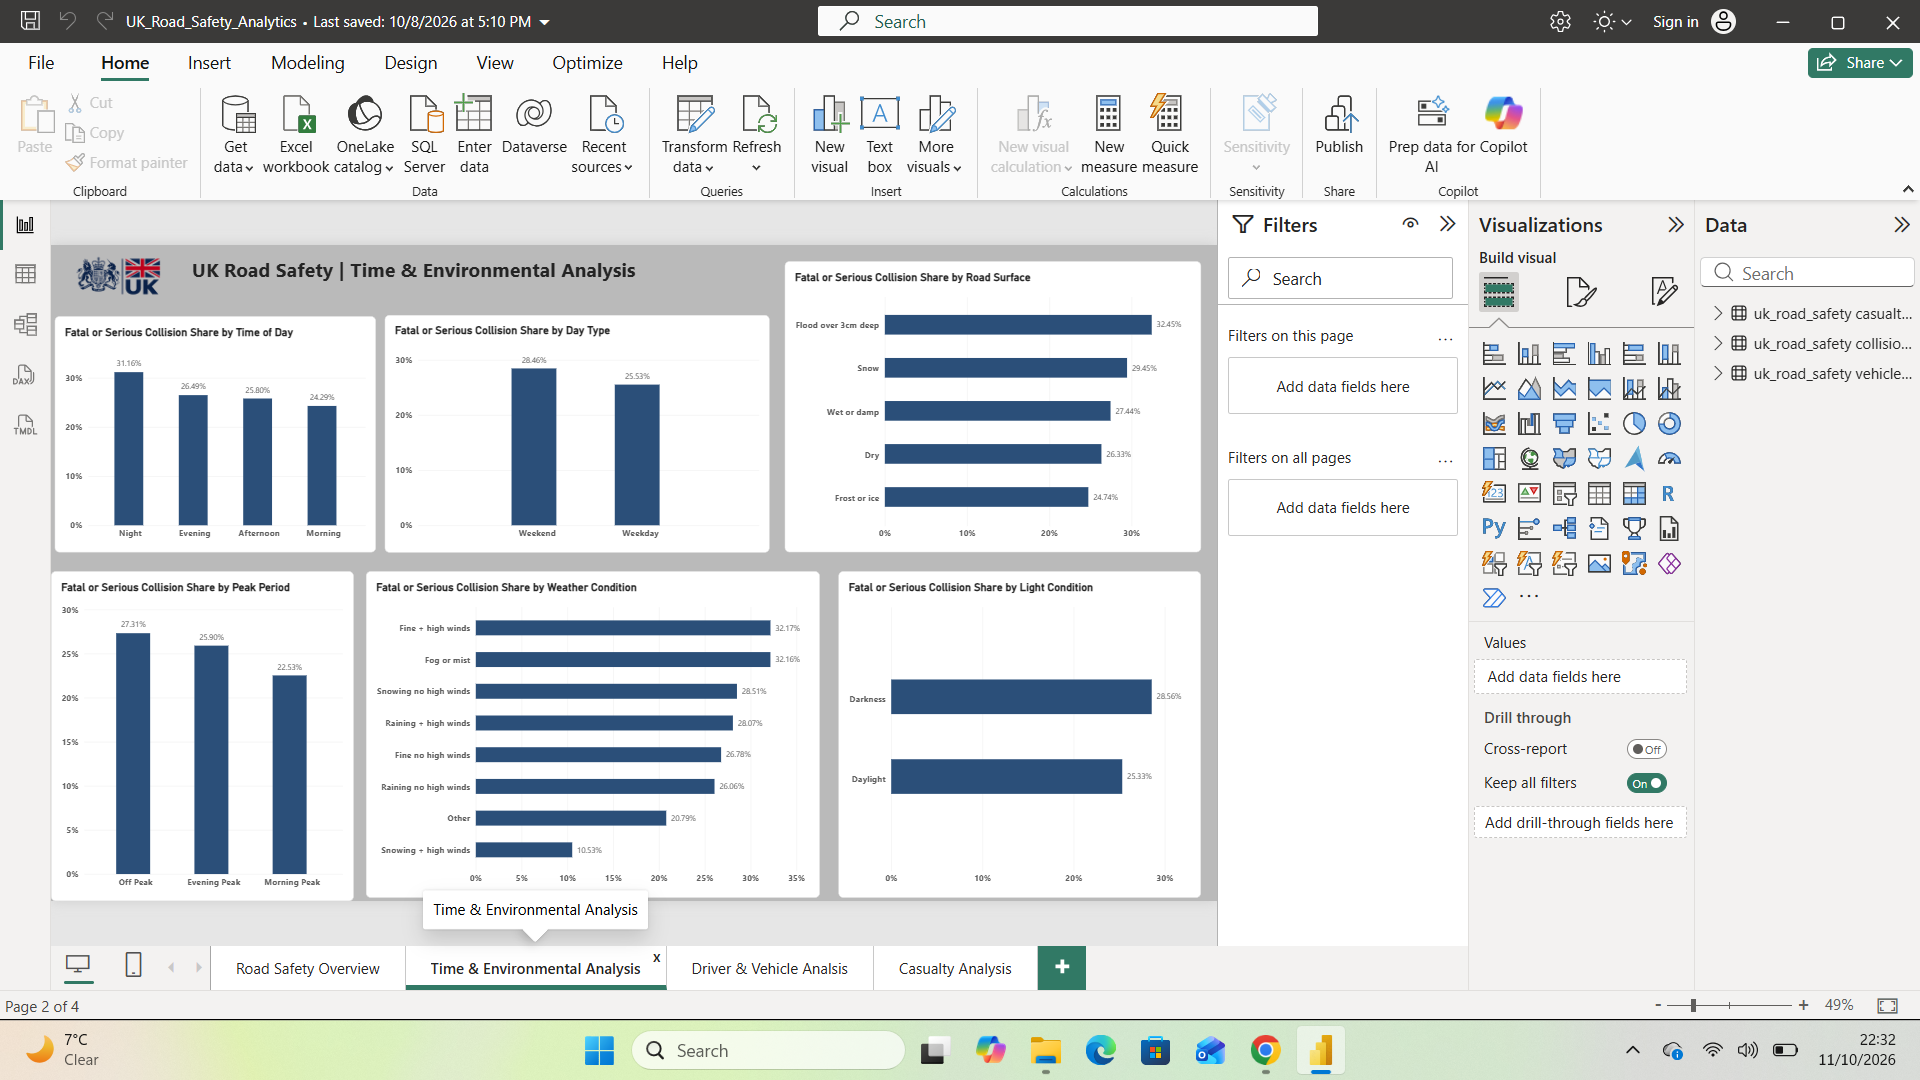

The page's visual inventory and layout, read from the dashboard file:
{"tool":"powerbi","page":{"name":"Time & Environmental Analysis","canvas":[1920,1080],"ordinal":1},"visuals":[{"type":"clusteredColumnChart","title":"Fatal or Serious Collision Share by Time of Day","fields":{"Category":["uk_road_safety collisions_clean.time_of_day"],"Y":["uk_road_safety casualties_clean.KSI Collision %"]},"box":[6.2,117.3,529,389],"z":0},{"type":"clusteredColumnChart","title":"Fatal or Serious Collision Share by Peak Period","fields":{"Category":["uk_road_safety collisions_clean.peak_period"],"Y":["uk_road_safety casualties_clean.KSI Collision %"]},"box":[0,537.2,498.1,543.4],"z":1000},{"type":"clusteredColumnChart","title":"Fatal or Serious Collision Share by Day Type","fields":{"Category":["uk_road_safety collisions_clean.day_type"],"Y":["uk_road_safety casualties_clean.KSI Collision %"]},"box":[549.6,115.3,634,391.1],"z":2000},{"type":"clusteredBarChart","title":"Fatal or Serious Collision Share by Weather Condition","fields":{"Category":["uk_road_safety collisions_clean.weather_label"],"Y":["uk_road_safety collisions_clean.Collision KSI %"]},"box":[518.7,537.2,747.2,537.2],"z":3000},{"type":"clusteredBarChart","title":"Fatal or Serious Collision Share by Road Surface","fields":{"Category":["uk_road_safety collisions_clean.road_surface_label"],"Y":["uk_road_safety collisions_clean.Collision KSI %"]},"box":[1208.2,26.8,685.4,479.6],"z":4000},{"type":"clusteredBarChart","title":"Fatal or Serious Collision Share by Light Condition","fields":{"Category":["uk_road_safety collisions_clean.light_group"],"Y":["uk_road_safety collisions_clean.Collision KSI %"]},"box":[1296.7,537.2,596.9,537.2],"z":5000},{"type":"textbox","box":[205.8,0,798.6,100.9],"z":6000},{"type":"image","box":[6.2,0,214.1,100.9],"z":6001}]}

Visuals, with their boxes on the page's 1920x1080 design canvas (x1, y1, x2, y2). These are canvas units, not pixel positions in the 1920x1080 screenshot, which may show the page scaled, cropped or inside an application window:
"Fatal or Serious Collision Share by Time of Day" clusteredColumnChart: <bbox>6, 117, 535, 506</bbox>
"Fatal or Serious Collision Share by Peak Period" clusteredColumnChart: <bbox>0, 537, 498, 1081</bbox>
"Fatal or Serious Collision Share by Day Type" clusteredColumnChart: <bbox>550, 115, 1184, 506</bbox>
"Fatal or Serious Collision Share by Weather Condition" clusteredBarChart: <bbox>519, 537, 1266, 1074</bbox>
"Fatal or Serious Collision Share by Road Surface" clusteredBarChart: <bbox>1208, 27, 1894, 506</bbox>
"Fatal or Serious Collision Share by Light Condition" clusteredBarChart: <bbox>1297, 537, 1894, 1074</bbox>
textbox: <bbox>206, 0, 1004, 101</bbox>
image: <bbox>6, 0, 220, 101</bbox>
